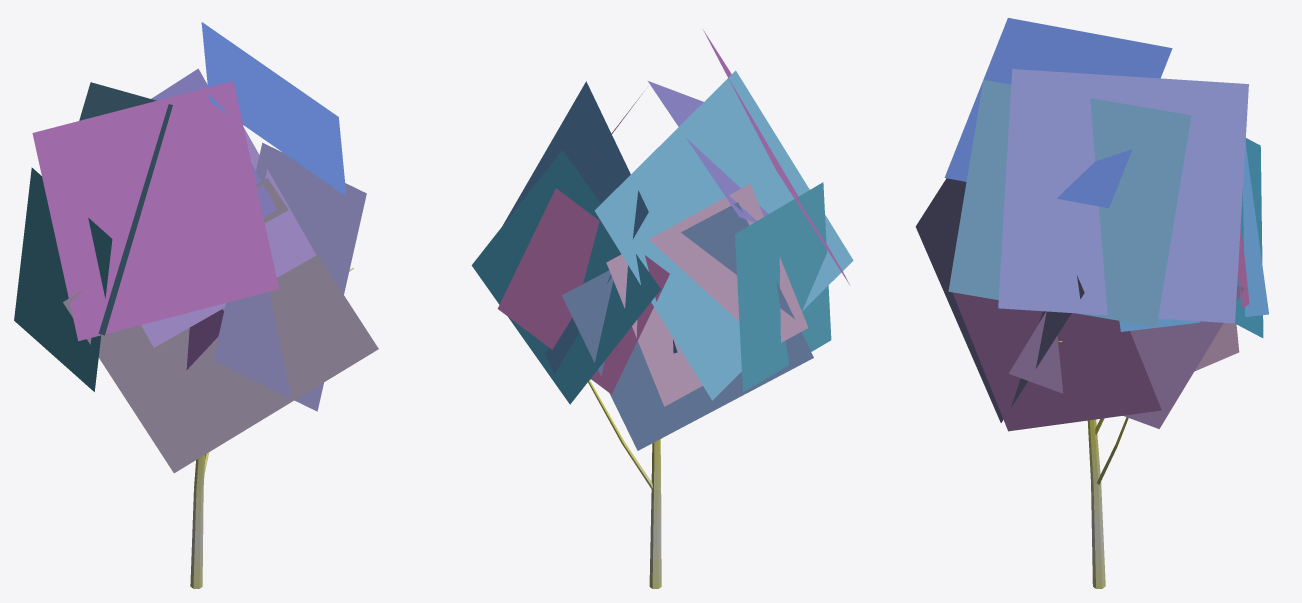
The model's file is tree_birch_2.glb.
3 views of the same model, side by side, from view 1: azimuth 30°, elevation 25°; view 2: azimuth 150°, elevation 25°; view 3: azimuth 270°, elevation 25° (orthographic). The views are drawn at different scales.
Parts seen in each view (by area): view 1: tree_birch_2; view 2: tree_birch_2; view 3: tree_birch_2.
Boxes of the visible parts, x1,y1,x2,y2 form: tree_birch_2: [14, 22, 378, 588]; tree_birch_2: [471, 30, 853, 588]; tree_birch_2: [915, 18, 1268, 588].
Size of the model in its own units: 7.62 by 11.72 by 7.6.
